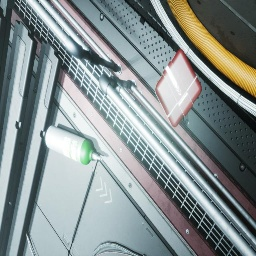0: (45, 125, 102, 165)
FirstAidBox ,: (155, 49, 202, 127)
